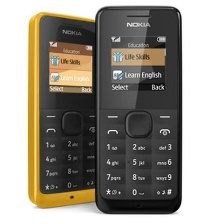phone: (92, 2, 184, 216), (25, 9, 119, 212)
